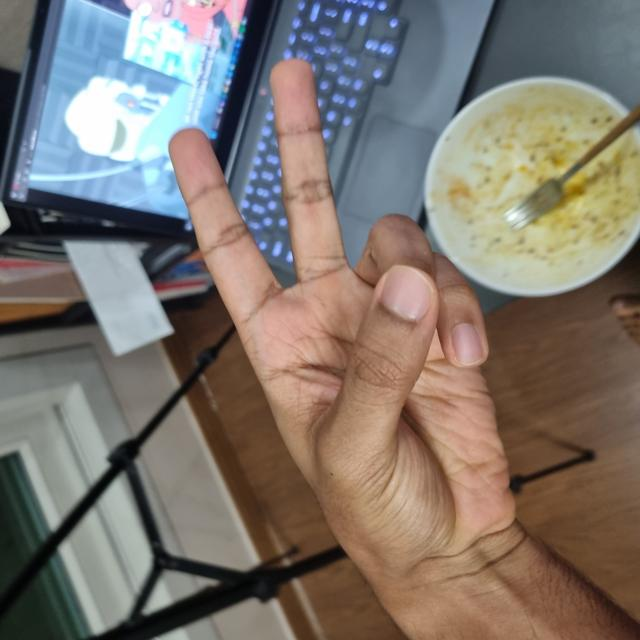Scissors: (79, 174, 583, 517)
